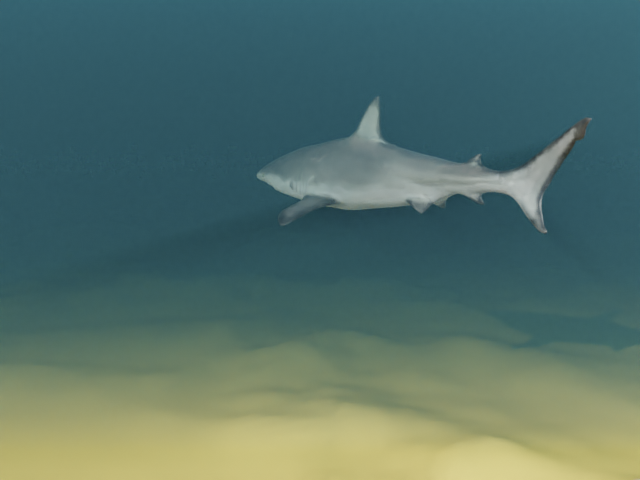Carribean Shark.001: (256, 95, 591, 233)
